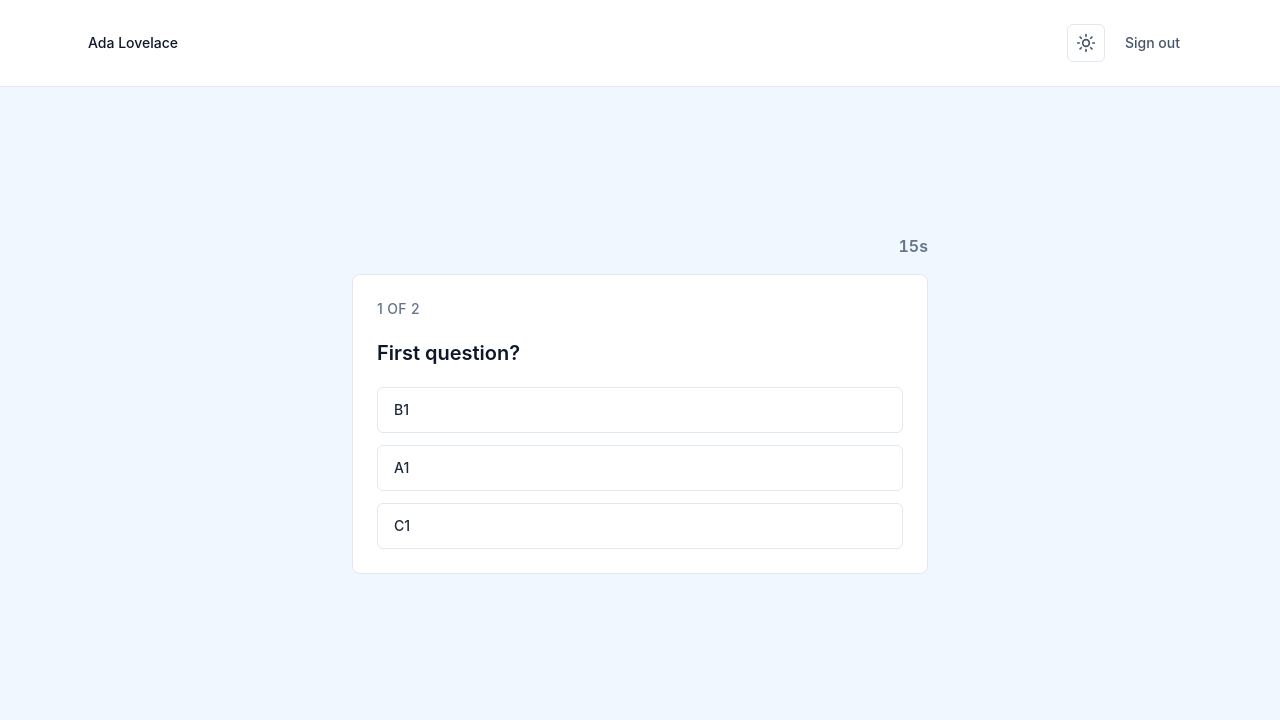
Test: QuizPlay › should_display_options_as_valid_permutation_and_record_original_indices
The width and height of the screenshot is (1280, 720).
Click the button "B1".
click(402, 409)  # box [377,386,903,432]
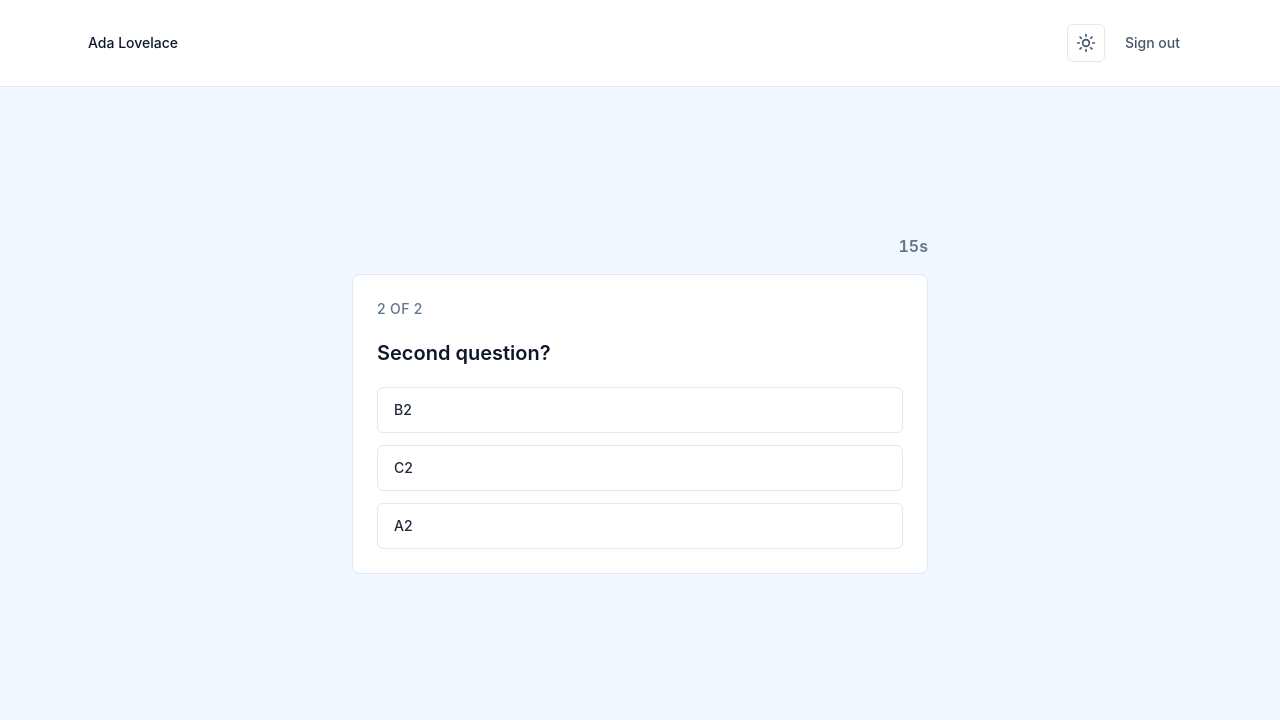
Click the button "B2".
click(403, 409)  # box [377,386,903,432]
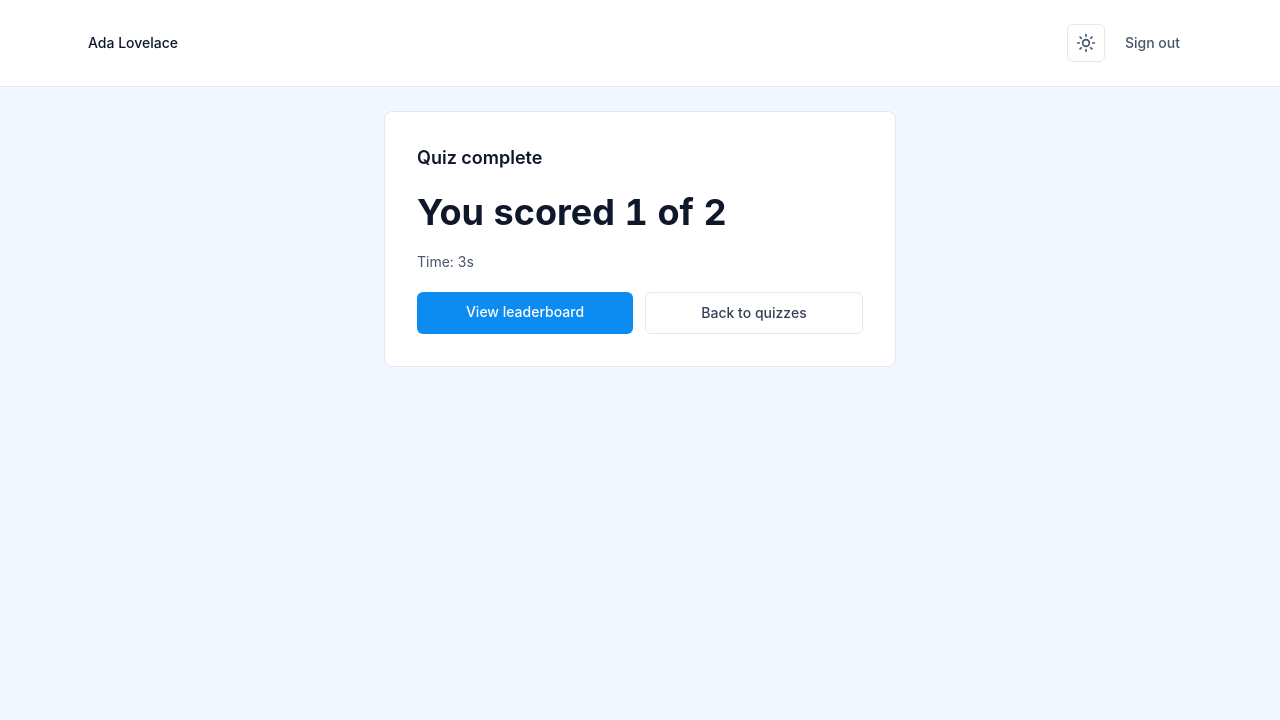
Now the text "You scored 1 of 2" is shown, box [417,190,727,234]
